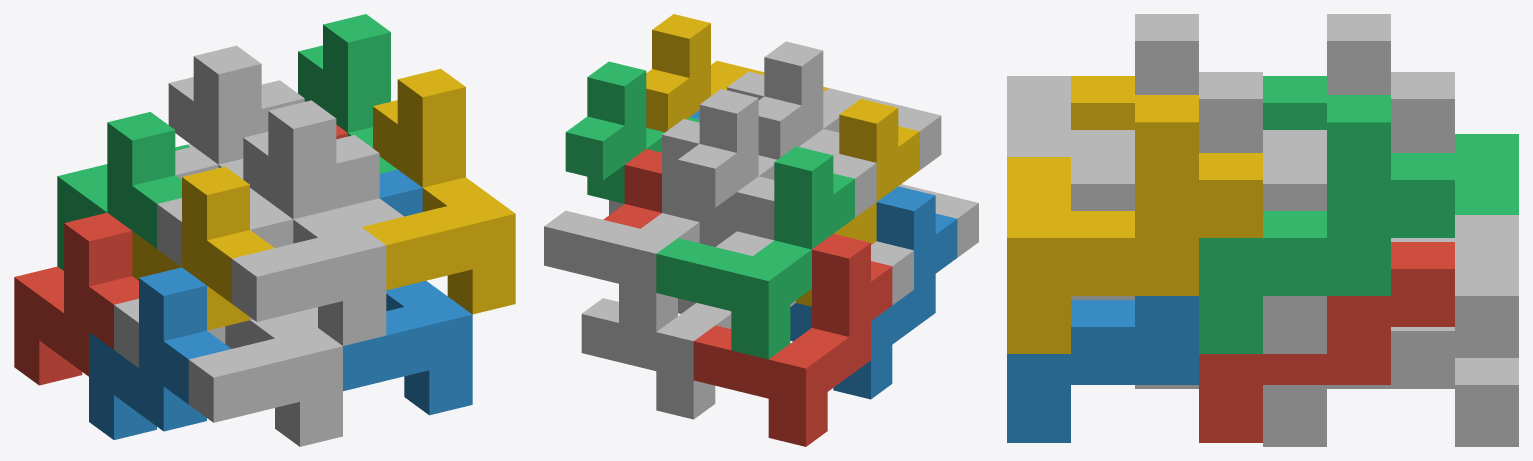
File: tiling.obj
3 renders of one model, left to right at view 1: azimuth 30°, elevation 25°; view 2: azimuth 150°, elevation 25°; view 3: azimuth 270°, elevation 25°, orthographic. The views are drawn at different scales.
Parts seen in each view (by area): view 1: copy_2_domain_4, copy_2_domain_8, copy_2_domain_2, copy_1_domain_1, copy_1_domain_2, copy_2_domain_6, copy_2_domain_3, copy_1_domain_3, copy_1_domain_4, copy_2_domain_7, copy_1_domain_8, copy_2_domain_1 (+1 smaller); view 2: copy_1_domain_3, copy_1_domain_1, copy_1_domain_7, copy_2_domain_3, copy_1_domain_2, copy_1_domain_5, copy_2_domain_4, copy_2_domain_7, copy_2_domain_8, copy_1_domain_4, copy_2_domain_1, copy_2_domain_5 (+2 smaller); view 3: copy_2_domain_8, copy_2_domain_7, copy_2_domain_5, copy_2_domain_4, copy_2_domain_6, copy_1_domain_7, copy_2_domain_3, copy_1_domain_5, copy_1_domain_3, copy_1_domain_8, copy_1_domain_6, copy_1_domain_4.
Boxes of the visible parts, x1,y1,x2,y2 form: copy_2_domain_4: [232, 100, 386, 345]; copy_2_domain_8: [361, 68, 515, 314]; copy_2_domain_2: [188, 201, 342, 446]; copy_1_domain_1: [14, 212, 138, 385]; copy_1_domain_2: [89, 267, 231, 439]; copy_2_domain_6: [343, 169, 472, 415]; copy_2_domain_3: [157, 45, 267, 266]; copy_1_domain_3: [57, 112, 189, 270]; copy_1_domain_4: [132, 166, 274, 330]; copy_2_domain_7: [298, 14, 397, 173]; copy_1_domain_8: [336, 135, 403, 226]; copy_2_domain_1: [114, 146, 225, 367]; copy_1_domain_3: [656, 146, 854, 359]; copy_1_domain_1: [693, 234, 892, 446]; copy_1_domain_7: [544, 119, 699, 331]; copy_2_domain_3: [678, 89, 876, 231]; copy_1_domain_2: [790, 186, 957, 399]; copy_1_domain_5: [581, 222, 736, 419]; copy_2_domain_4: [758, 41, 941, 169]; copy_2_domain_7: [565, 61, 699, 203]; copy_2_domain_8: [646, 14, 828, 132]; copy_1_domain_4: [796, 99, 919, 306]; copy_2_domain_1: [716, 176, 913, 306]; copy_2_domain_5: [603, 149, 661, 228]; copy_2_domain_8: [1007, 95, 1262, 353]; copy_2_domain_7: [1199, 95, 1454, 353]; copy_2_domain_5: [1199, 242, 1454, 442]; copy_2_domain_4: [1007, 14, 1262, 156]; copy_2_domain_6: [1007, 296, 1198, 442]; copy_1_domain_7: [1263, 157, 1518, 357]; copy_2_domain_3: [1263, 14, 1454, 156]; copy_1_domain_5: [1327, 327, 1518, 446]; copy_1_domain_3: [1263, 76, 1518, 214]; copy_1_domain_8: [1071, 157, 1326, 353]; copy_1_domain_6: [1071, 296, 1326, 446]; copy_1_domain_4: [1071, 76, 1134, 129].
Bounding box in the file's own units: 7 × 7 × 8.
